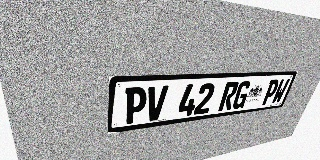2: (193, 83, 216, 115)
4: (177, 84, 200, 117)
G: (231, 81, 252, 110)
P: (123, 86, 148, 125), (260, 79, 281, 105)
R: (218, 81, 240, 111)
V: (145, 85, 169, 122)
W: (271, 79, 290, 104)
